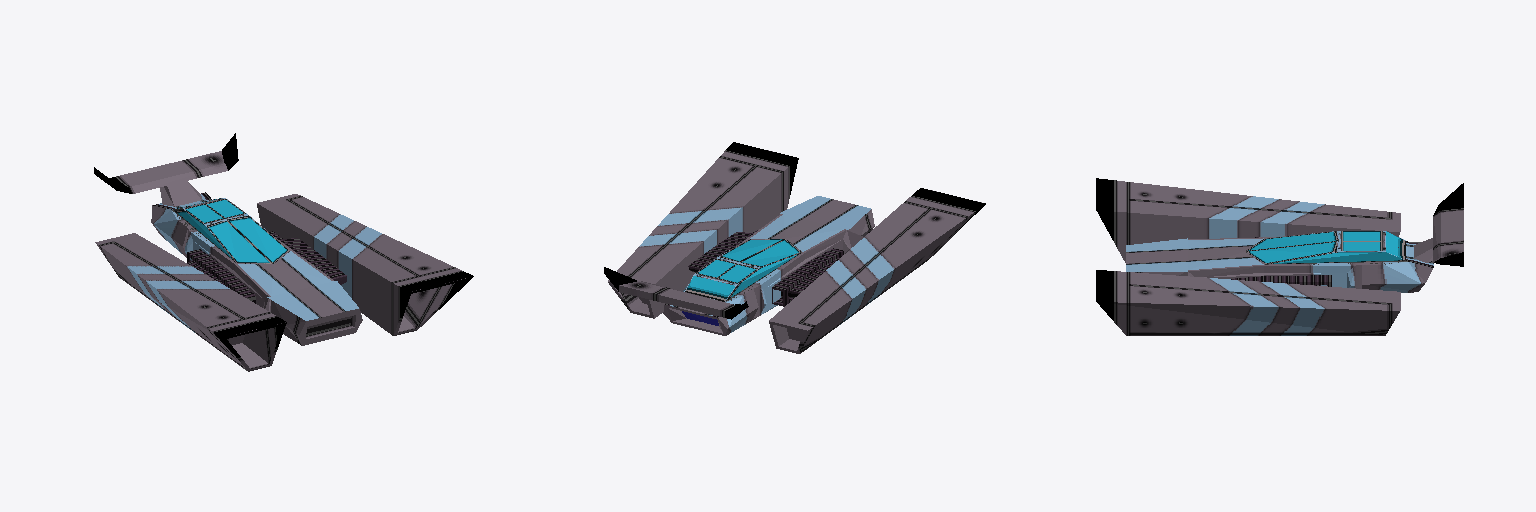
3 renders of one model, left to right at view 1: azimuth 30°, elevation 25°; view 2: azimuth 150°, elevation 25°; view 3: azimuth 270°, elevation 25°, orthographic.
Parts seen in each view (by area): view 1: turbina_ID235, cabine_ID4, ferragem_ID267, mt0_ID157, Corpo.024_ID169, spoler_ID275; view 2: turbina_ID235, cabine_ID4, ferragem_ID267, mt0_ID157, Corpo.024_ID169; view 3: turbina_ID235, cabine_ID4, ferragem_ID267, mt0_ID157.
Part boxes in pixels (x1,y1,x2,y2): turbina_ID235: (95,194,473,371); cabine_ID4: (151,192,362,345); ferragem_ID267: (94,133,238,193); mt0_ID157: (187,231,331,303); Corpo.024_ID169: (187,238,346,287); spoler_ID275: (160,181,201,206); turbina_ID235: (608,142,985,353); cabine_ID4: (663,196,874,335); ferragem_ID267: (604,267,748,319); mt0_ID157: (699,230,843,306); Corpo.024_ID169: (688,232,842,297); turbina_ID235: (1096,178,1400,335); cabine_ID4: (1126,231,1433,292); ferragem_ID267: (1433,183,1463,266); mt0_ID157: (1231,275,1331,286).
Size of the model in its own units: 23.69 by 7 by 29.74.
4 materials, 1 textured.